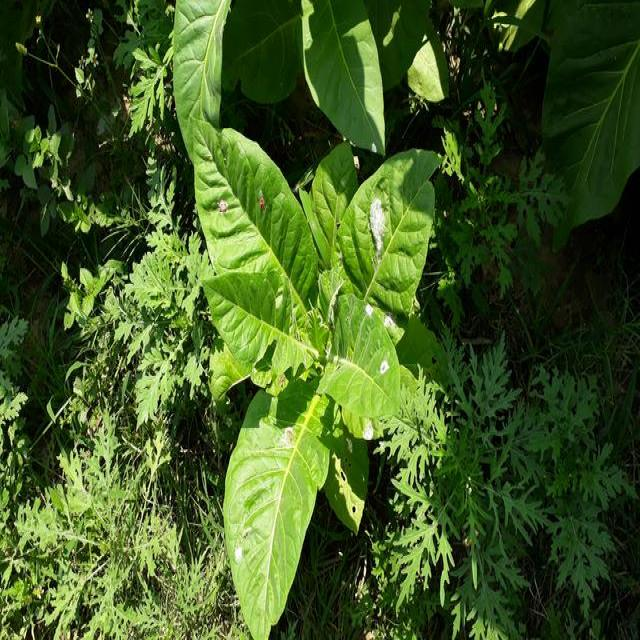crop: (192, 119, 380, 640)
